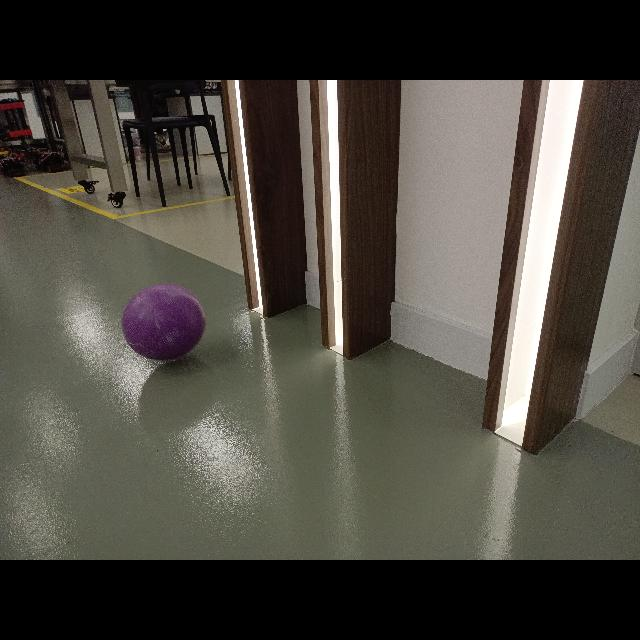P: (122, 284, 206, 360)
